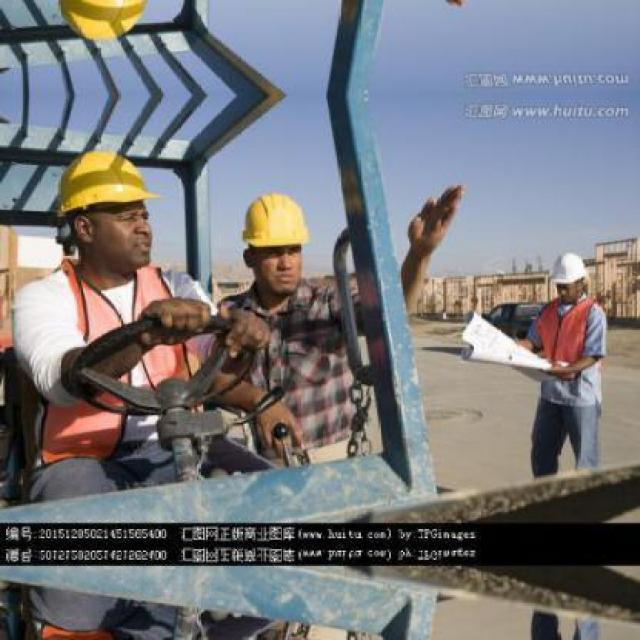helmet: (54, 145, 172, 225), (237, 188, 318, 255), (538, 248, 592, 288)
